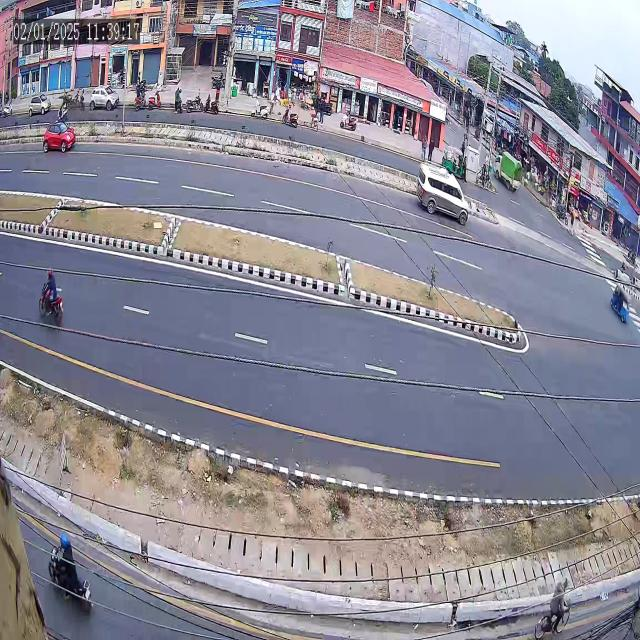auto: (603, 277, 633, 330)
car: (36, 116, 82, 162)
cycle: (531, 557, 575, 640)
motorcycle: (40, 512, 98, 632), (36, 242, 67, 337)
